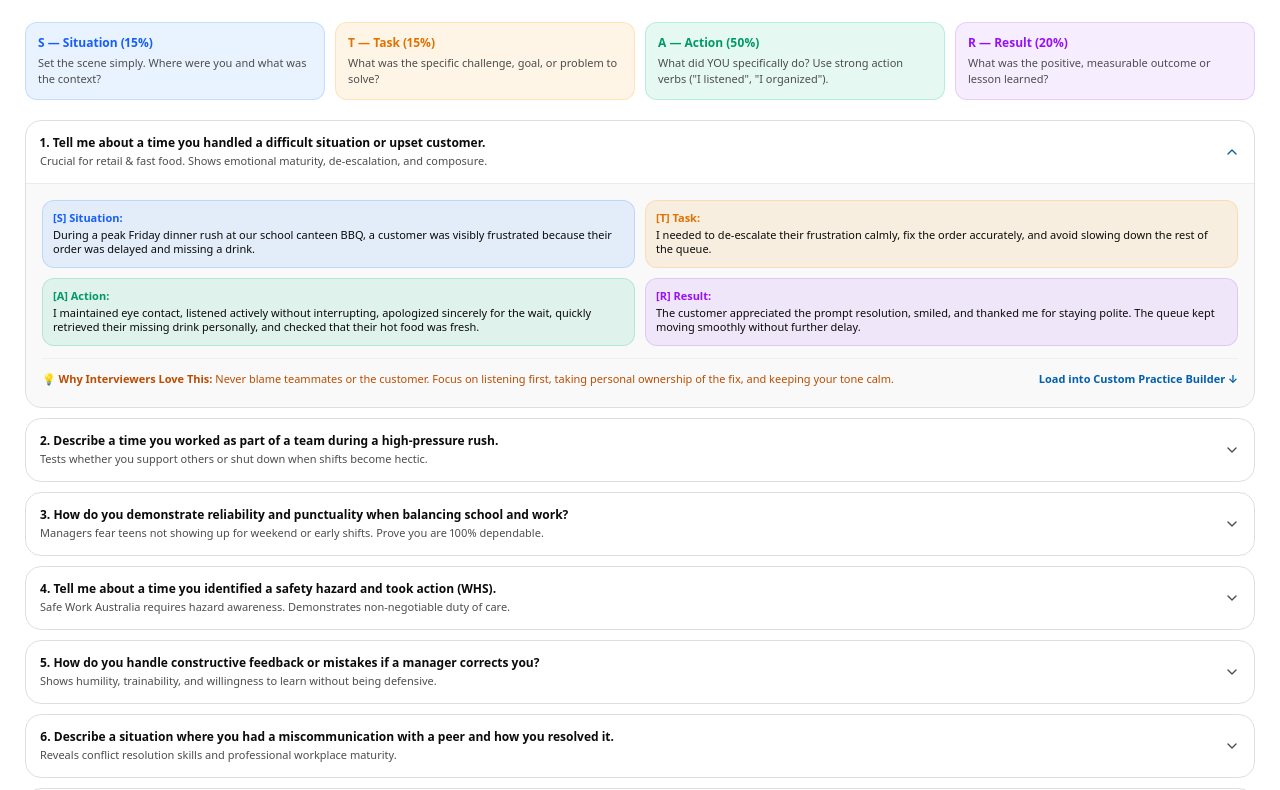
TeenResumeBuilder Component › renders all 7 STAR method interview scenarios with S-T-A-R cards and coach tips
(page scrolled)
Open Scenario 2 (Teamwork Under Heavy Rush)
Click the text "2. Describe a time you worked as part of a team during a high-pressure rush." at (269, 441), box [40,433,498,449]
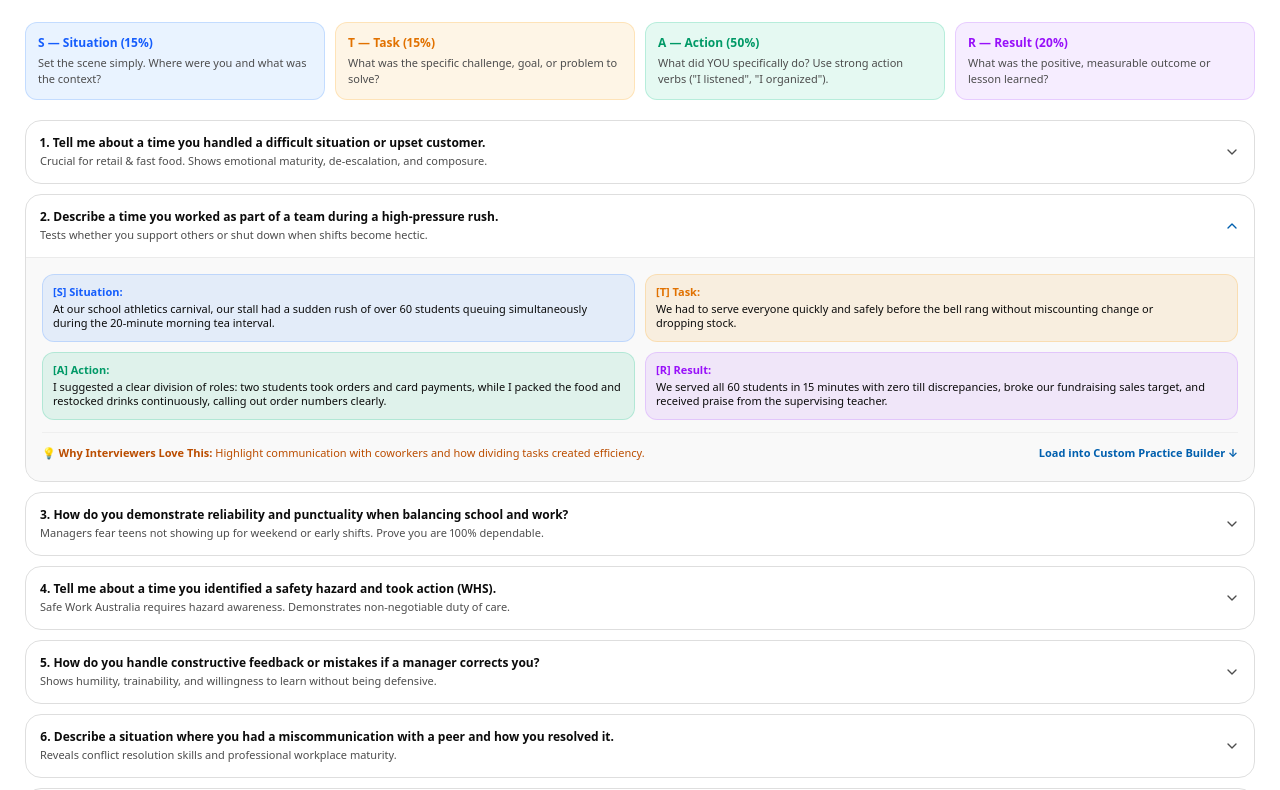
Result: the text "At our school athletics carnival, our stall had a sudden rush of over 60 students queuing simultaneously during the 20-m" is shown at [53,301,587,330]
Result: the text "We had to serve everyone quickly and safely before the bell rang without miscounting change or dropping stock." is shown at [656,301,1153,330]
Result: the text "I suggested a clear division of roles: two students took orders and card payments, while I packed the food and restocked" is shown at [53,379,621,408]
